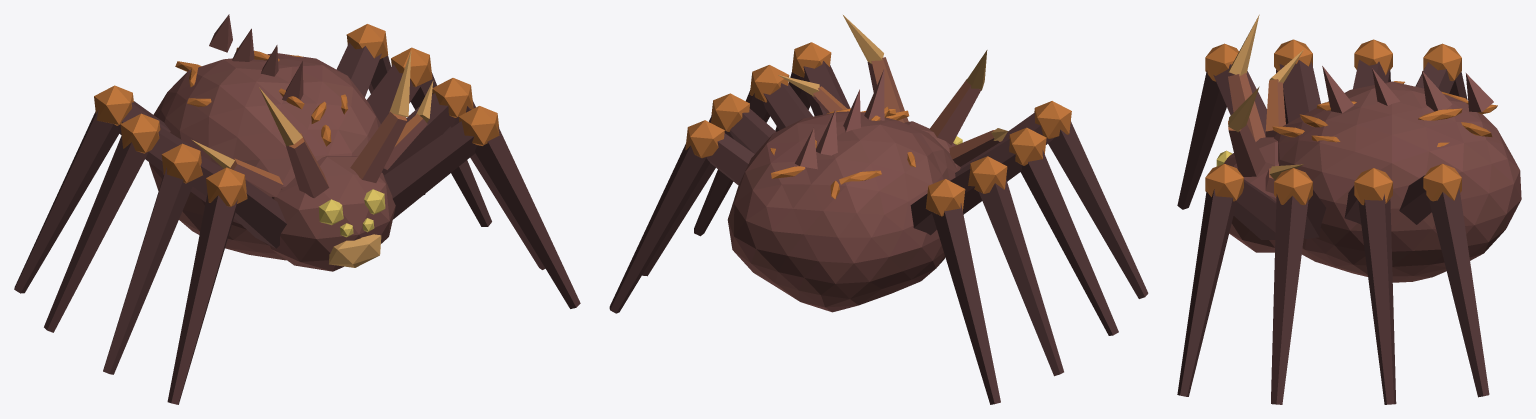
Rendered from enemy_ember_eater.glb.
3 views of the same model, side by side, from view 1: azimuth 30°, elevation 25°; view 2: azimuth 150°, elevation 25°; view 3: azimuth 270°, elevation 25° (orthographic). The views are drawn at different scales.
Parts seen in each view (by area): view 1: enemy_ember_eater; view 2: enemy_ember_eater; view 3: enemy_ember_eater.
Boxes of the visible parts, x1,y1,x2,y2 form: enemy_ember_eater: [14, 14, 580, 404]; enemy_ember_eater: [609, 15, 1148, 404]; enemy_ember_eater: [1177, 14, 1521, 404].
Size of the model in its own units: 4.51 by 2.51 by 3.09.
